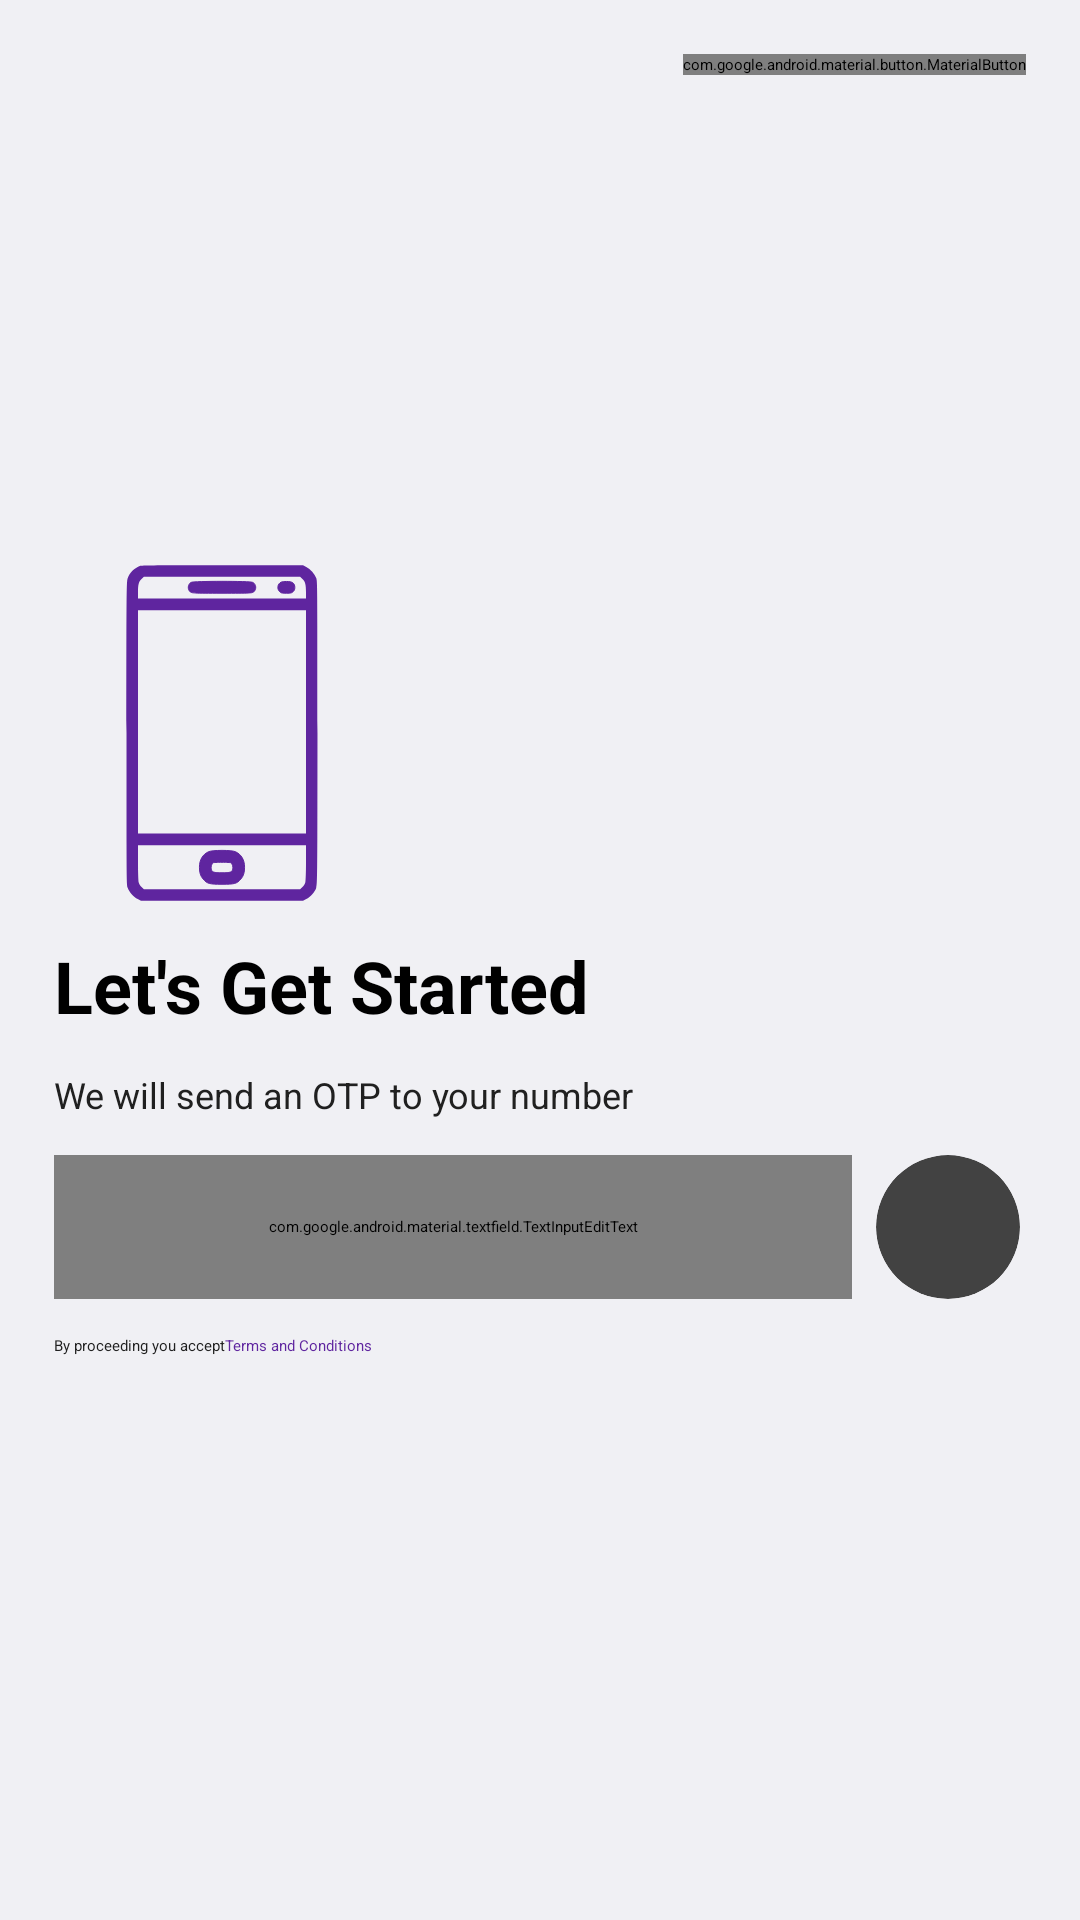

Named icons in this screenshot (1080px x 1920px) and their bounding boxes, box(x1, y1, x2, y2):
Smartphone: box(126, 565, 318, 901)
